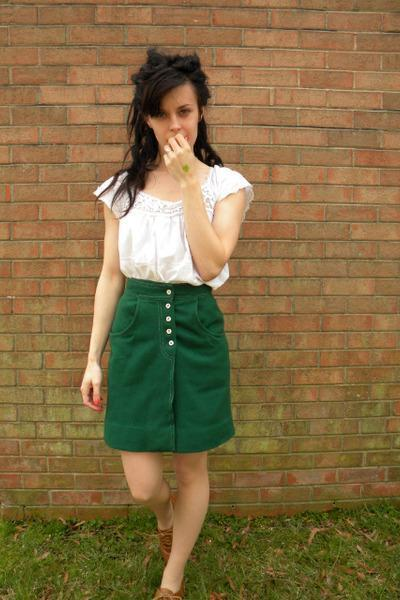shirt: (93, 164, 250, 288)
shoe: (144, 522, 181, 599)
skirt: (103, 276, 234, 452)
